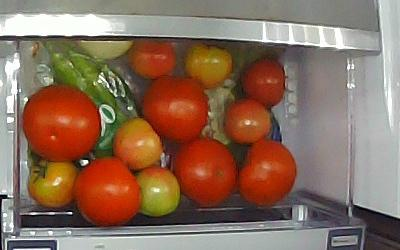tomato: (22, 85, 101, 163), (73, 157, 141, 226), (171, 138, 237, 209), (144, 76, 208, 144), (237, 140, 297, 209), (113, 118, 163, 170), (27, 159, 78, 209), (135, 166, 181, 217), (241, 57, 286, 109), (185, 42, 233, 90), (223, 99, 271, 143), (128, 42, 177, 80)
